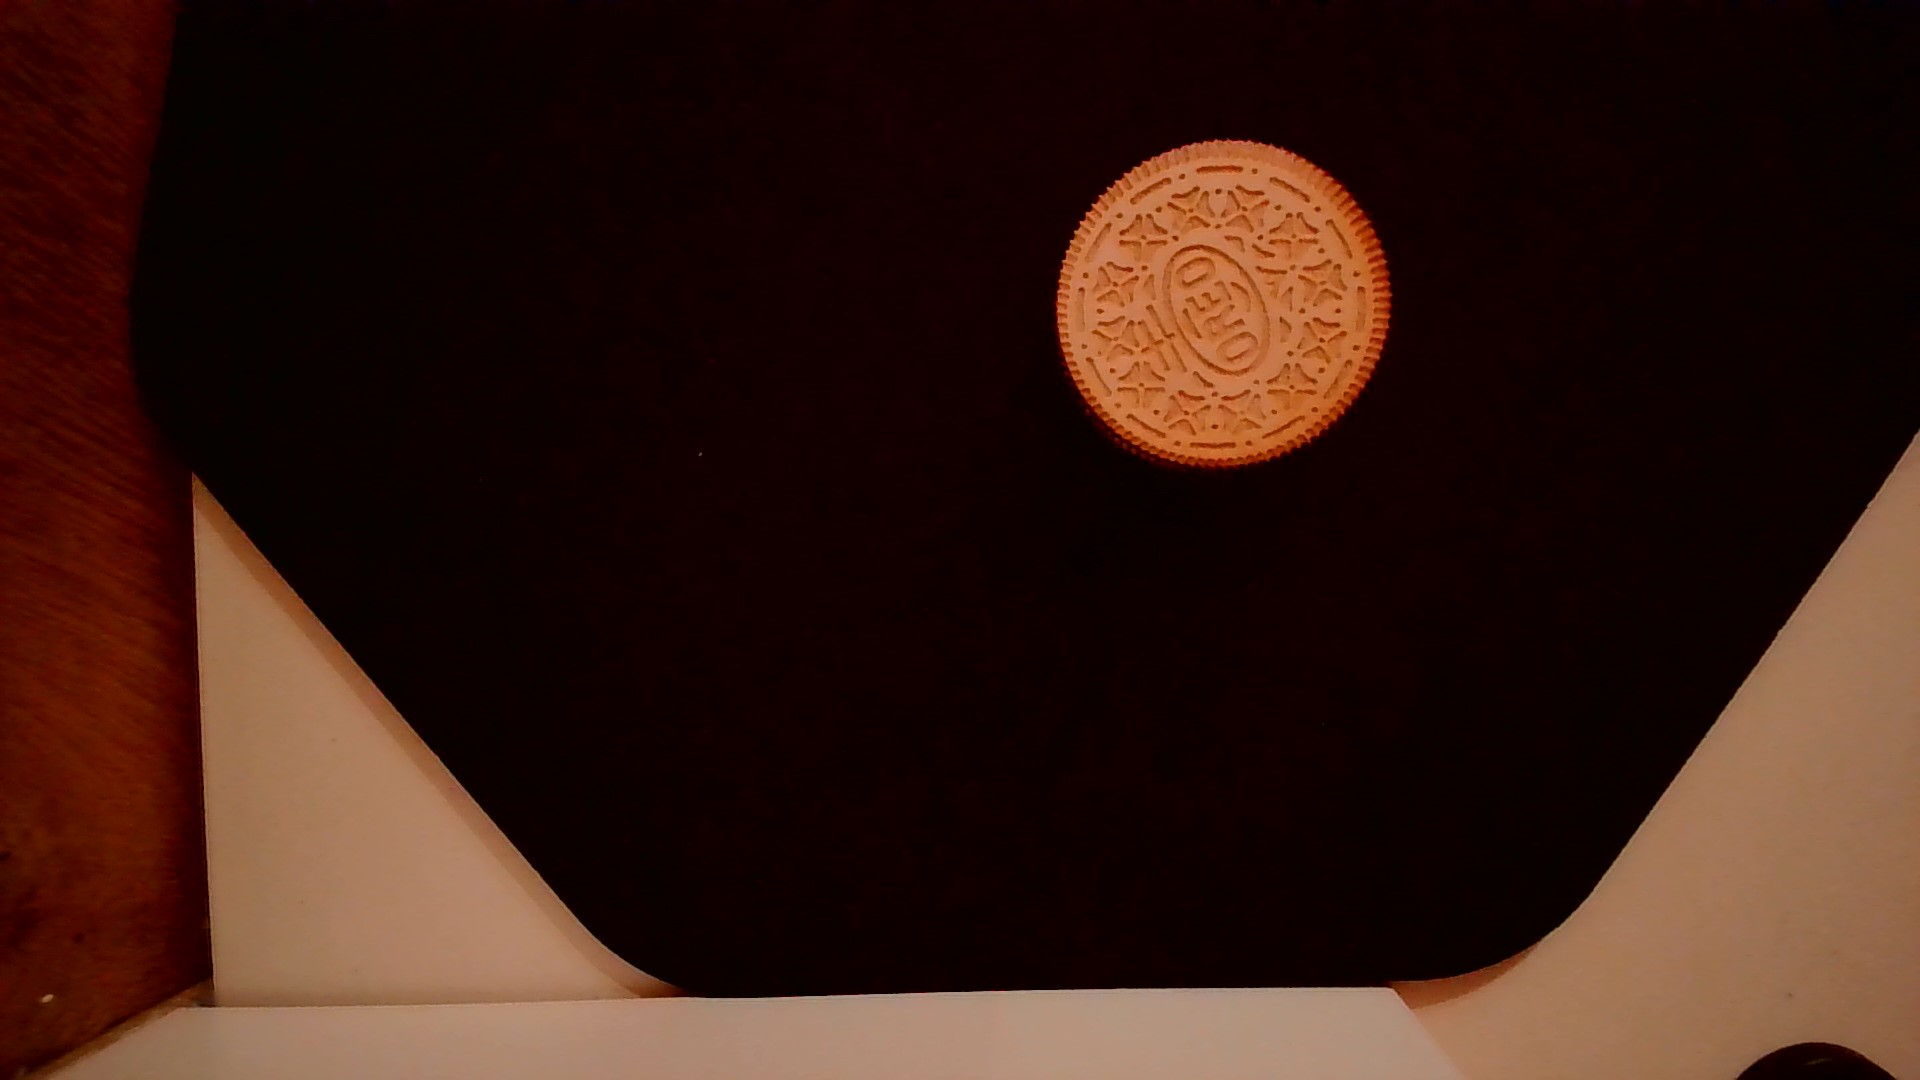Oréo: (1038, 131, 1402, 477)
